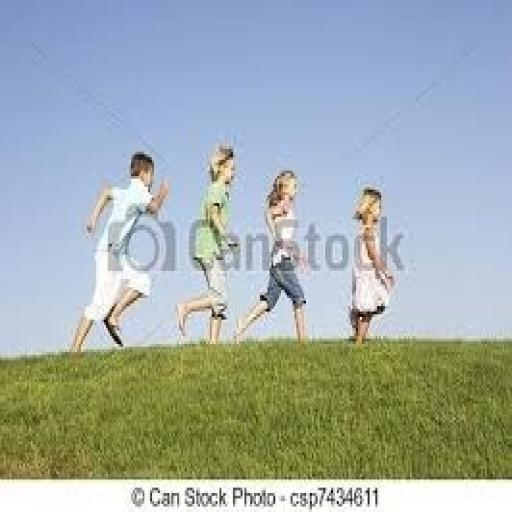running: (68, 149, 172, 355), (231, 168, 314, 347), (172, 141, 242, 347), (344, 184, 398, 347)
